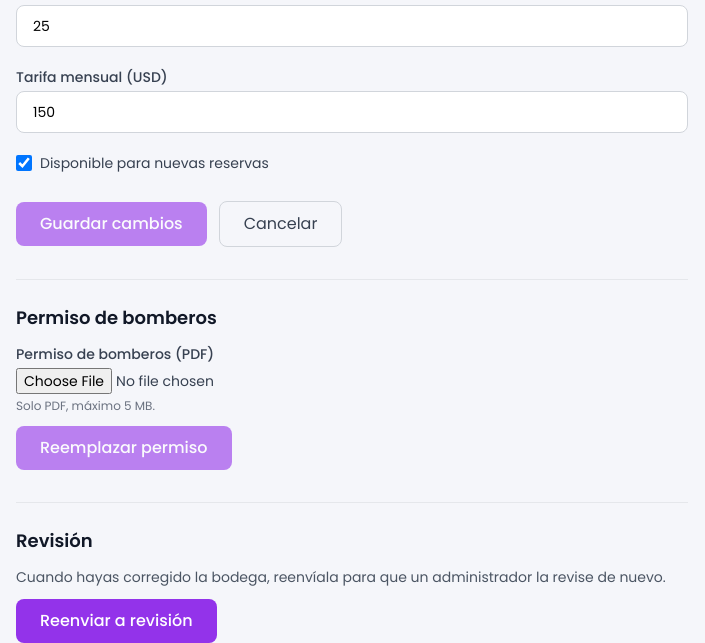
it: EditarBodega resubmission › resubmits a rejected room, shows the success message and hides the button
(page scrolled)
Click the button "Reenviar a revisión".
click(116, 621)  # box [16,599,217,642]
(page scrolled)
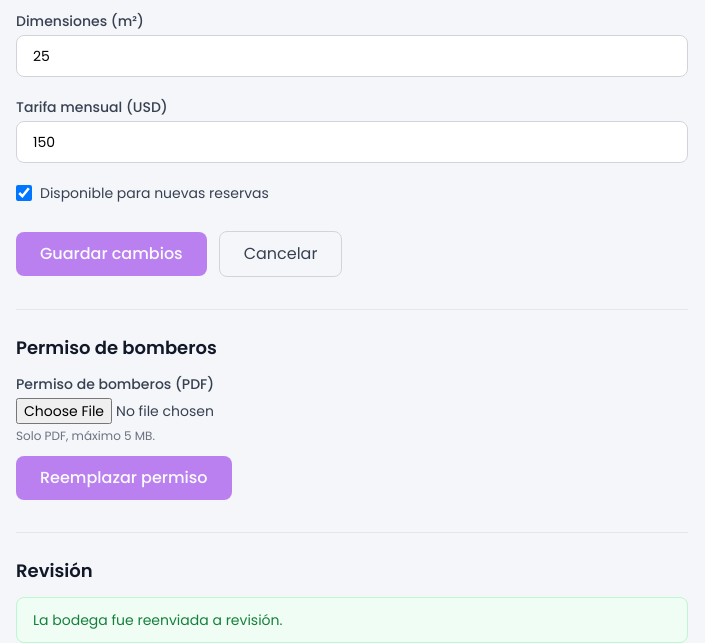
Expected: the text "La bodega fue reenviada a revisión." is shown, [16,597,688,642]
Expected: the button "Reenviar a revisión" is gone
